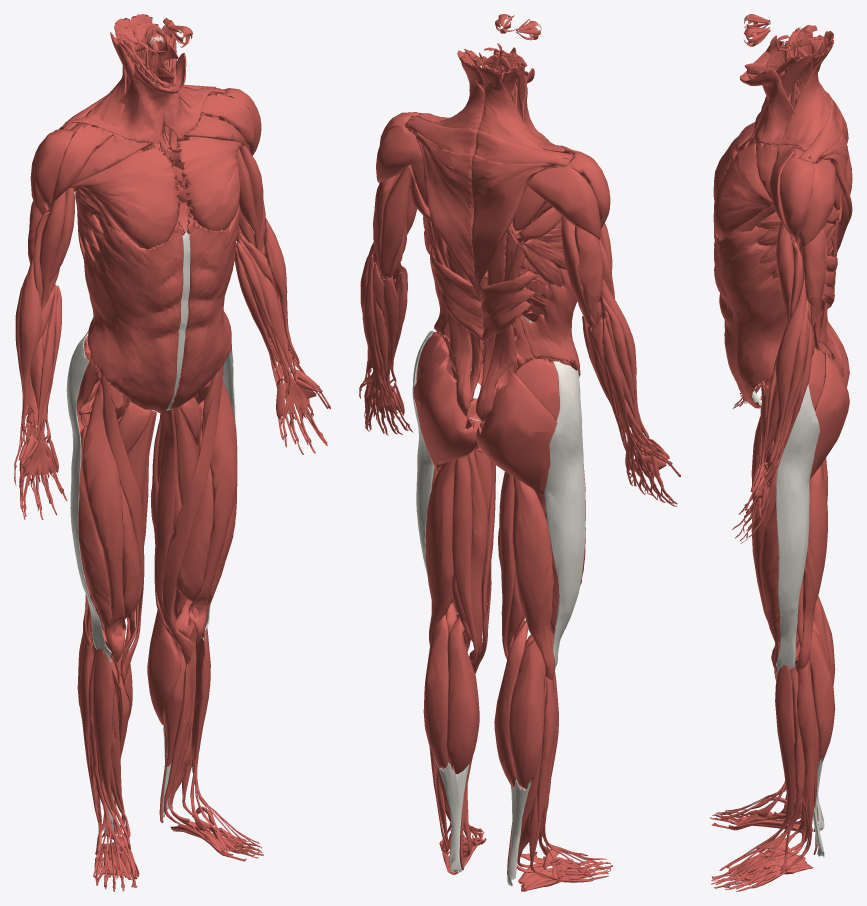
The model's file is muscles.glb.
3 renders of one model, left to right at view 1: azimuth 30°, elevation 25°; view 2: azimuth 150°, elevation 25°; view 3: azimuth 270°, elevation 25°, orthographic.
Parts seen in each view (by area): view 1: Right external oblique, Left external oblique, Sternocostal part of right pectoralis major, Right rectus femoris, Sternocostal part of left pectoralis major, Left rectus femoris, Left sartorius, Right platysma, Right iliotibial tract, Left gracilis, Right vastus lateralis, Right sartorius (+42 smaller); view 2: Right iliotibial tract, Right gluteus maximus, Long head of right biceps femoris, Ascending part of left trapezius, Ascending part of right trapezius, Left gluteus maximus, Lateral head of right gastrocnemius, Medial head of left gastrocnemius, Long head of left biceps femoris, Right external oblique, Left semitendinosus, Lateral head of left gastrocnemius (+42 smaller); view 3: Left external oblique, Left iliotibial tract, Sternocostal part of left pectoralis major, Long head of left biceps femoris, Left gluteus maximus, Left platysma, Left tibialis anterior, Acromial part of left deltoid, Descending part of left trapezius, Left brachioradialis, Left vastus lateralis, Lateral head of left gastrocnemius (+34 smaller).
Boxes of the visible parts, x1,y1,x2,y2 form: Right external oblique: (84,216,183,412); Left external oblique: (170,203,240,409); Sternocostal part of right pectoralis major: (68,146,180,248); Right rectus femoris: (82,381,126,662); Sternocostal part of left pectoralis major: (177,137,242,231); Left rectus femoris: (188,370,237,642); Left sartorius: (163,362,224,664); Right platysma: (71,64,175,144); Right iliotibial tract: (66,333,112,663); Left gracilis: (154,407,191,639); Right vastus lateralis: (78,426,116,660); Right sartorius: (98,373,144,679); Right iliotibial tract: (544,361,585,672); Right gluteus maximus: (476,371,557,496); Long head of right biceps femoris: (512,476,555,679); Ascending part of left trapezius: (414,131,480,299); Ascending part of right trapezius: (471,154,557,298); Left gluteus maximus: (413,355,477,471); Lateral head of right gastrocnemius: (509,639,545,789); Medial head of left gastrocnemius: (446,617,479,774); Long head of left biceps femoris: (425,460,455,644); Right external oblique: (520,268,580,376); Left semitendinosus: (452,455,478,667); Lateral head of left gastrocnemius: (423,614,448,768); Left external oblique: (714,226,787,408); Left iliotibial tract: (776,384,819,675); Sternocostal part of left pectoralis major: (713,143,773,238); Long head of left biceps femoris: (797,464,827,668); Left gluteus maximus: (809,350,849,479); Left platysma: (740,69,809,150); Left tibialis anterior: (756,664,795,852); Acromial part of left deltoid: (780,156,814,241); Descending part of left trapezius: (783,40,833,144); Left brachioradialis: (768,276,806,463); Left vastus lateralis: (760,499,780,671); Lateral head of left gastrocnemius: (809,629,835,764).
Size of the model in its own units: 0.6387 by 1.61 by 0.251.
